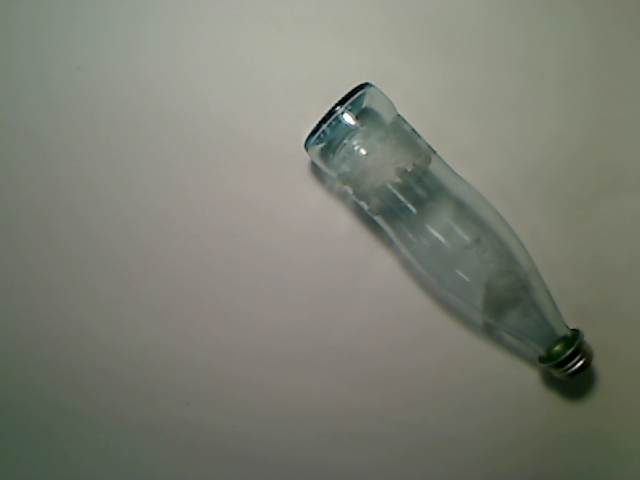bottle: (300, 82, 595, 383)
